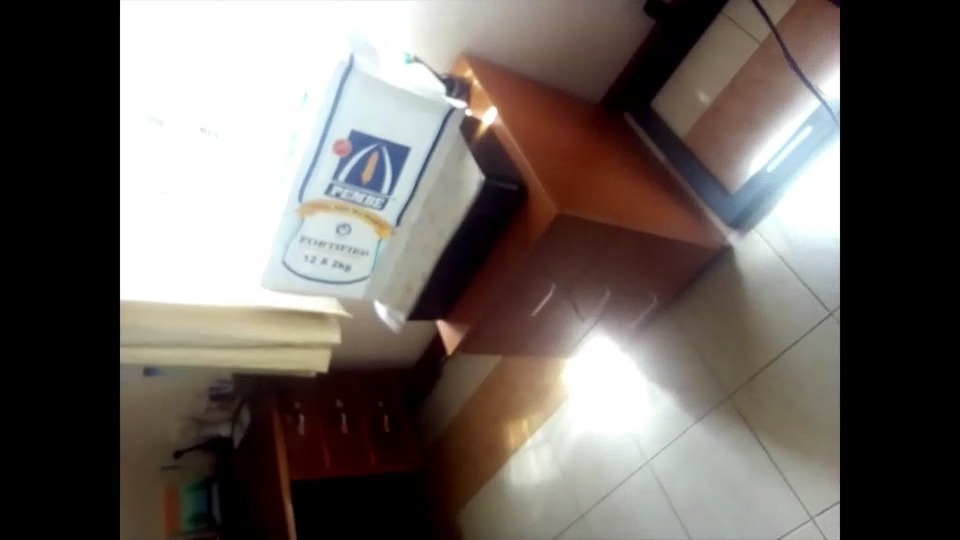wheat_flour_blue_label: (255, 42, 468, 296)
